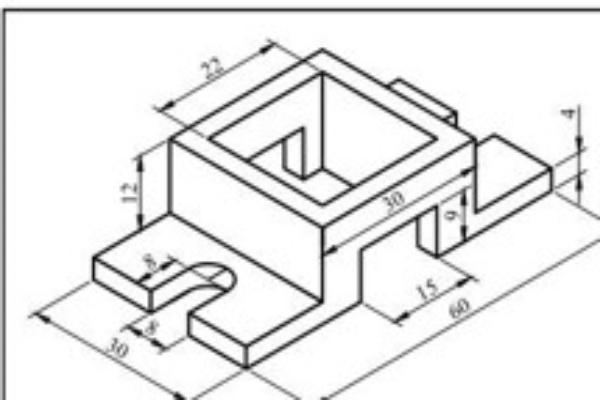dimensions: (186, 49, 236, 84), (442, 290, 481, 324), (98, 333, 135, 364), (378, 186, 412, 218), (409, 276, 447, 303), (110, 178, 146, 205), (441, 202, 470, 231), (139, 249, 165, 274), (137, 320, 172, 336)
